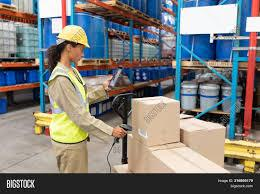Boxes: (127, 134, 184, 176), (131, 97, 180, 144)
